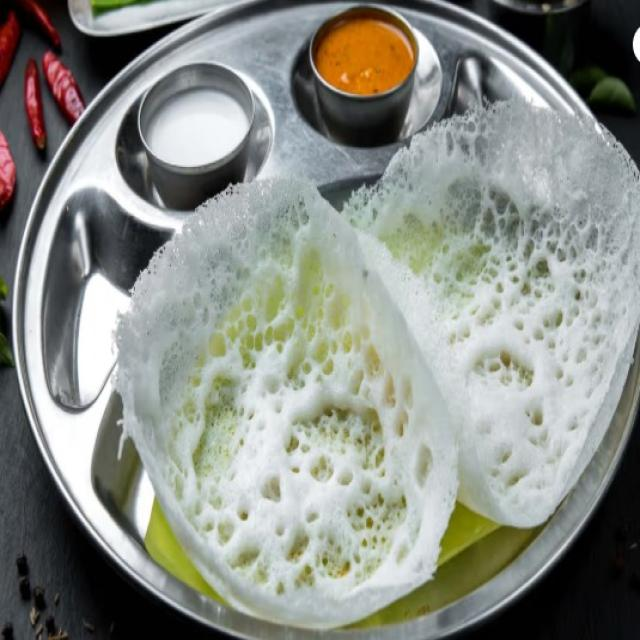AAPAM: (110, 98, 639, 630)
SAMBAR: (307, 5, 421, 107)
